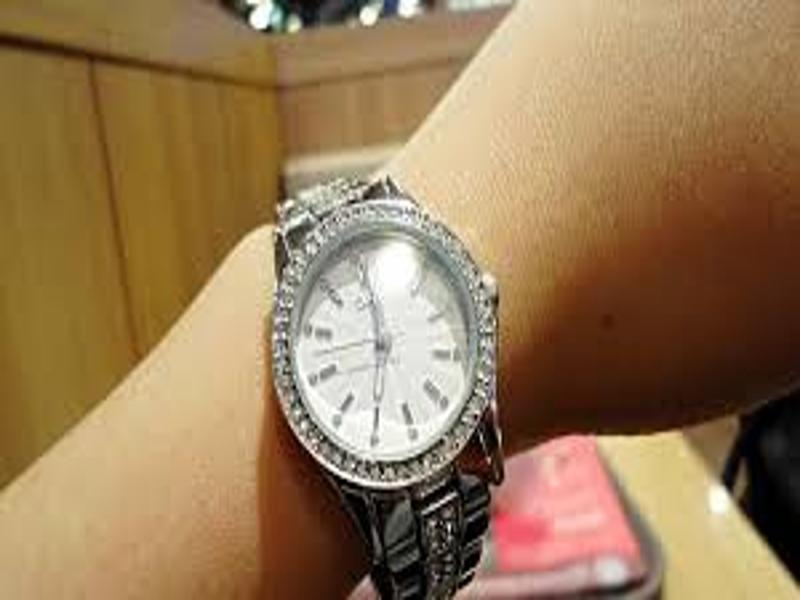watch: (266, 175, 506, 592)
